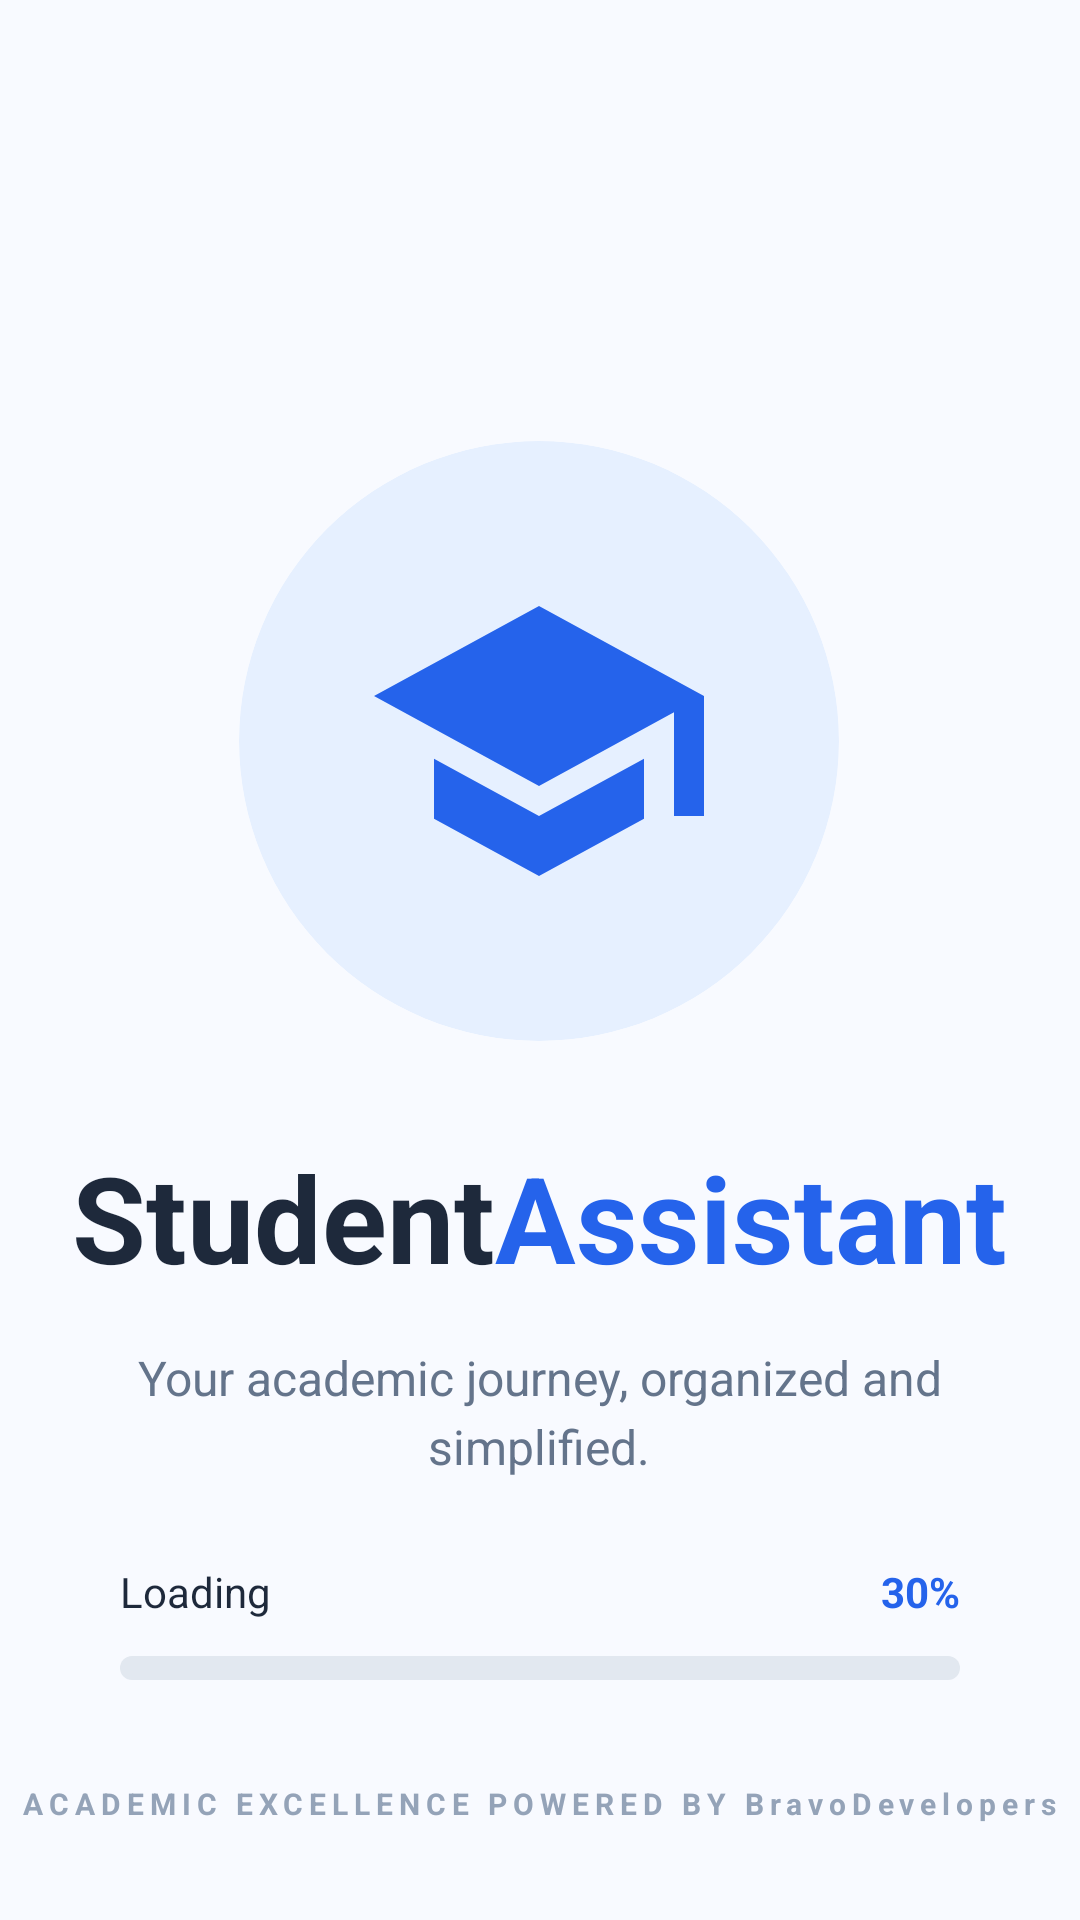

Screen size 1080 × 1920. Icon name, then its center in pixels as point (x, y):
graduation cap: point (539, 741)
